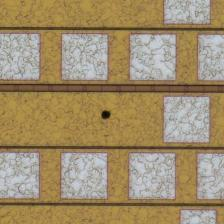PARTICLE: (98, 108, 114, 124)
